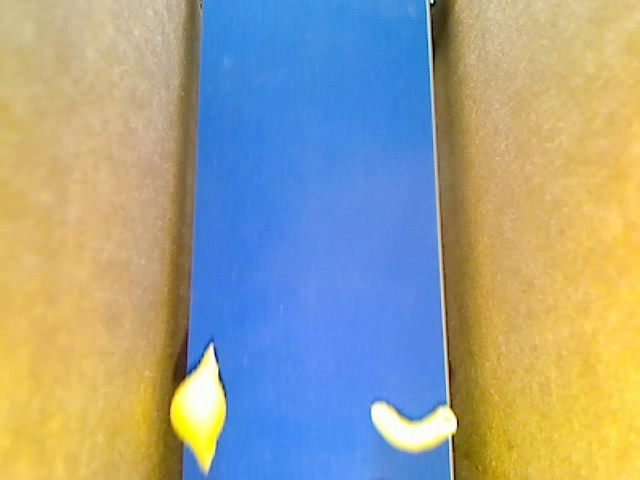elbow: (370, 401, 457, 453)
shell: (170, 342, 225, 475)
